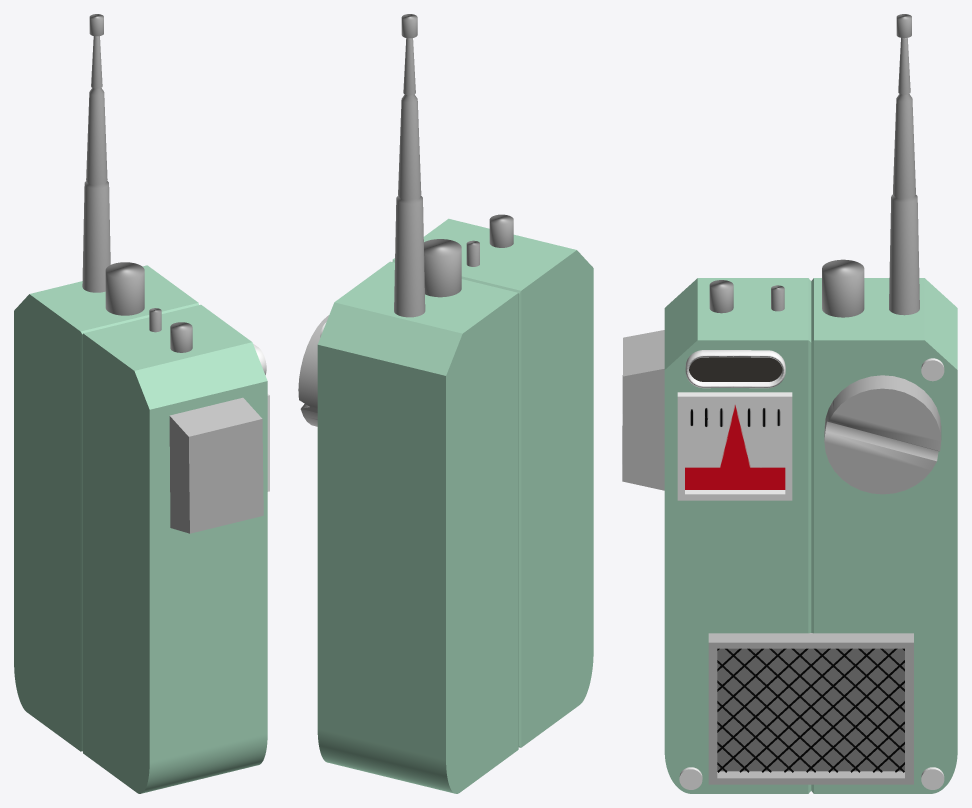
The model's file is dekiller.glb.
3 renders of one model, left to right at view 1: azimuth 30°, elevation 25°; view 2: azimuth 150°, elevation 25°; view 3: azimuth 270°, elevation 25°, orthographic. The views are drawn at different scales.
Visible parts, largest first — view 1: base, right part, antenna, left, right; view 2: base, antenna, left, eye, right; view 3: base, speaker wall, eye, scale.pic, speaker, grid, right part, antenna, scale, left, idk, idk either (+2 smaller).
Part boxes in pixels (x1=…): base: x1=14, y1=265, x2=267, y2=793; right part: x1=169, y1=397, x2=263, y2=533; antenna: x1=82, y1=36, x2=110, y2=292; left: x1=105, y1=262, x2=144, y2=315; right: x1=170, y1=322, x2=192, y2=352; base: x1=317, y1=218, x2=593, y2=793; antenna: x1=394, y1=38, x2=425, y2=317; left: x1=424, y1=239, x2=461, y2=297; eye: x1=298, y1=315, x2=328, y2=426; right: x1=489, y1=214, x2=513, y2=247; base: x1=664, y1=278, x2=957, y2=793; speaker wall: x1=717, y1=648, x2=904, y2=771; eye: x1=824, y1=375, x2=941, y2=494; scale.pic: x1=685, y1=403, x2=785, y2=489; speaker: x1=708, y1=633, x2=913, y2=784; grid: x1=717, y1=648, x2=904, y2=772; right part: x1=622, y1=330, x2=664, y2=490; antenna: x1=889, y1=38, x2=919, y2=315; scale: x1=677, y1=392, x2=792, y2=500; left: x1=822, y1=259, x2=864, y2=317; idk: x1=689, y1=357, x2=782, y2=381; idk either: x1=685, y1=350, x2=785, y2=388.
Size of the model in its own units: 4.4 by 20.25 by 8.26.
16 materials, 1 textured.
